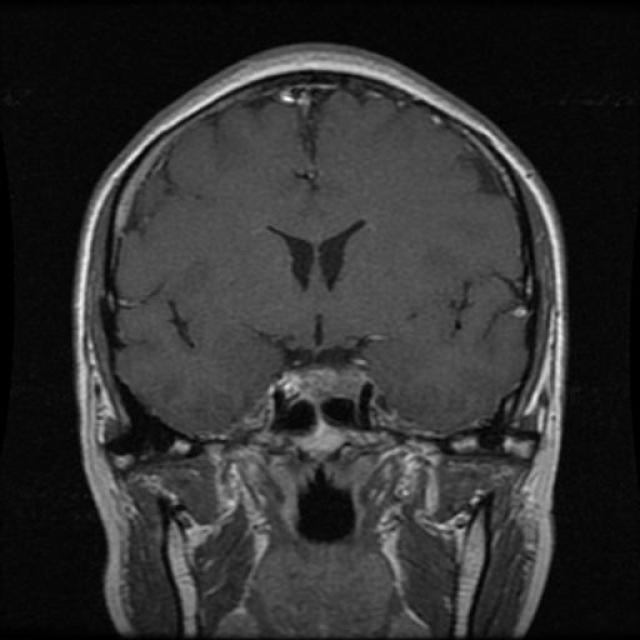pituitary: (246, 360, 375, 407)
